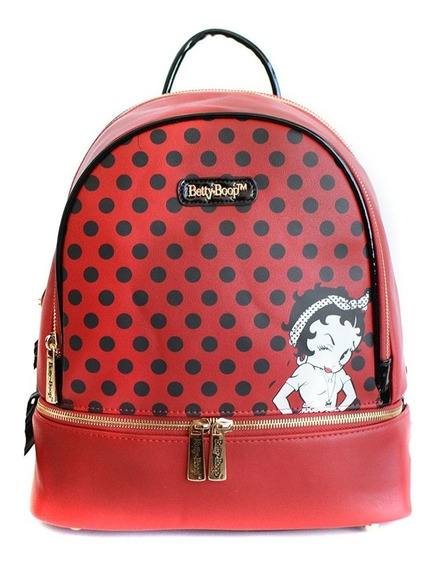cartera: (23, 28, 414, 532)
